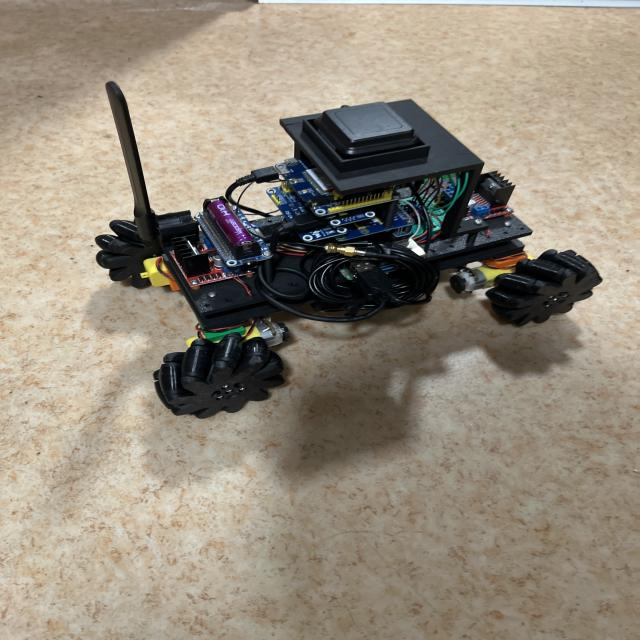robot: (95, 82, 602, 418)
